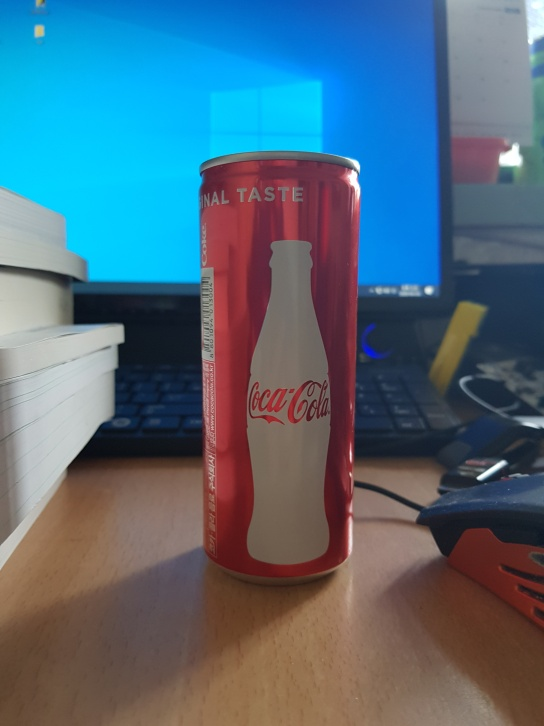Can: (193, 149, 361, 586)
